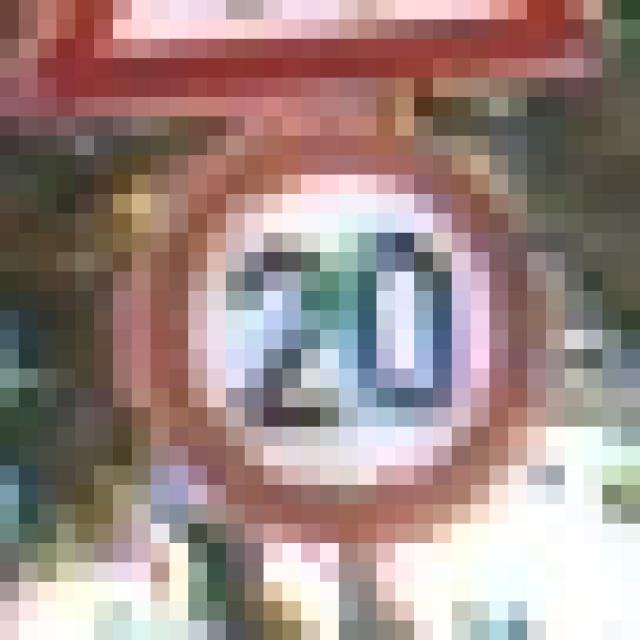Speed Limit -20-: (113, 97, 546, 543)
